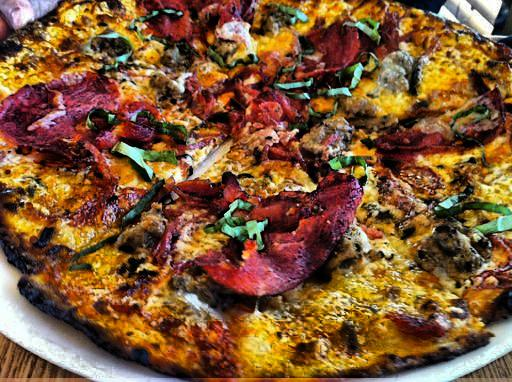pizza: (5, 5, 508, 371)
